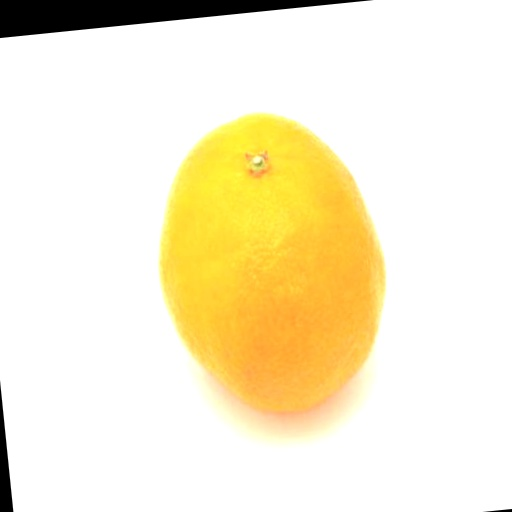fruit: (159, 113, 386, 411)
